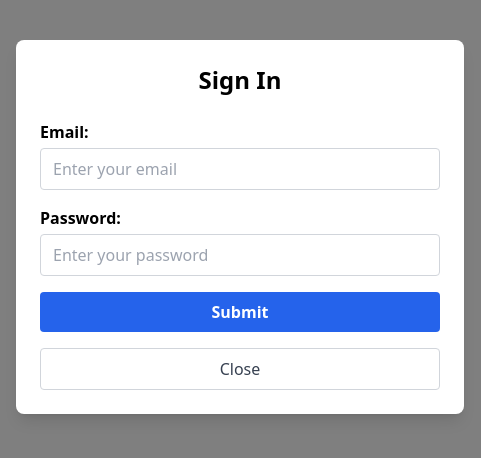
SignIn Component › shows required field errors on empty submit
Click the button "Submit". click: x=240, y=312
box: [40,292,440,332]
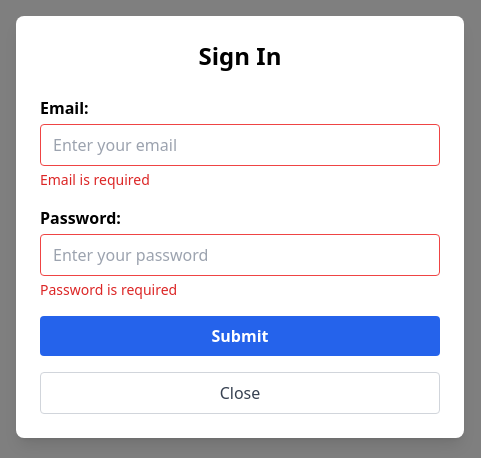
Check: the text "Email is required" is shown, box [40,170,150,189]
Check: the text "Password is required" is shown, box [40,280,177,299]
